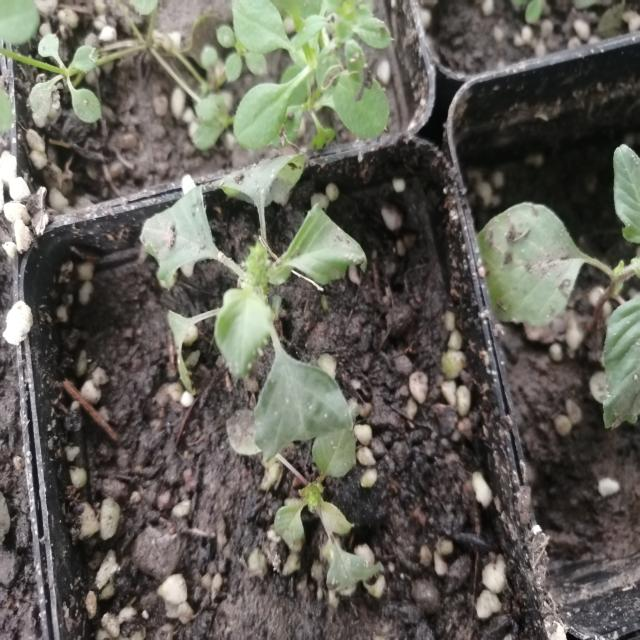pigweed: (137, 149, 362, 468)
